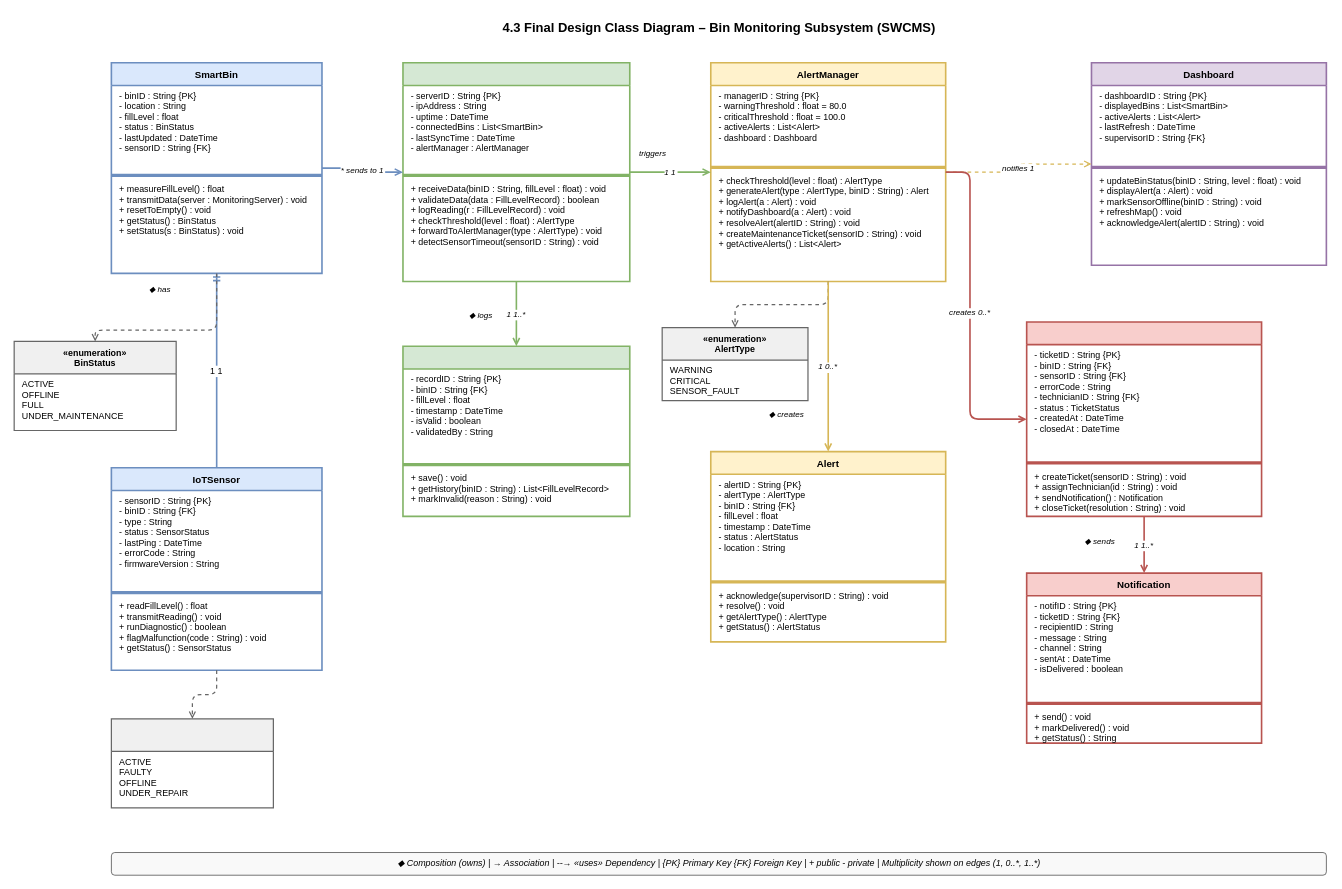
Image size: 1342x889. Some labels were removed from this diagram. The shapes that lost their labels are listed below. From the top down, each one's box as (x1, y1, x2, y2) in pixels, then its label:
(402, 62, 630, 282): MonitoringServer
(402, 345, 630, 517): FillLevelRecord
(1025, 321, 1262, 517): MaintenanceTicket
(110, 718, 274, 808): «enumeration» SensorStatus
